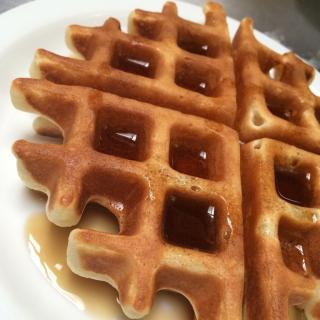Waffle: (9, 0, 319, 319)
